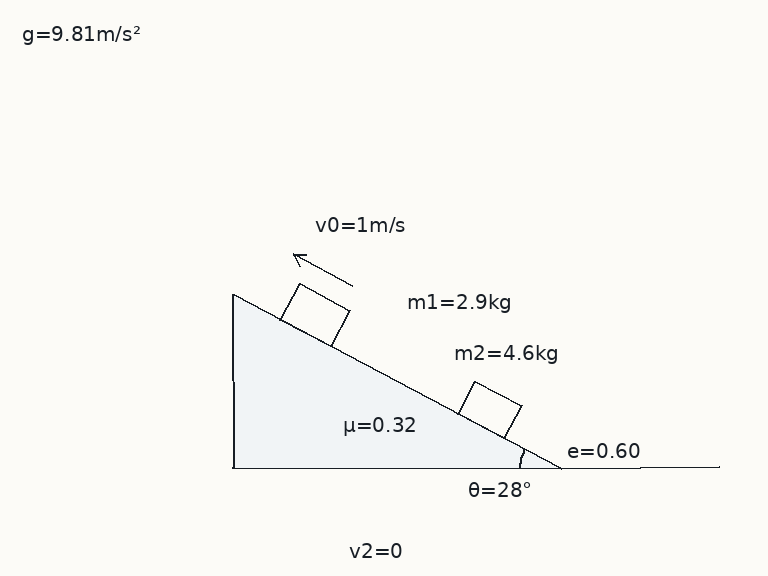block: (279, 281, 351, 348), (456, 379, 523, 440)
ramp: (231, 292, 562, 470)
